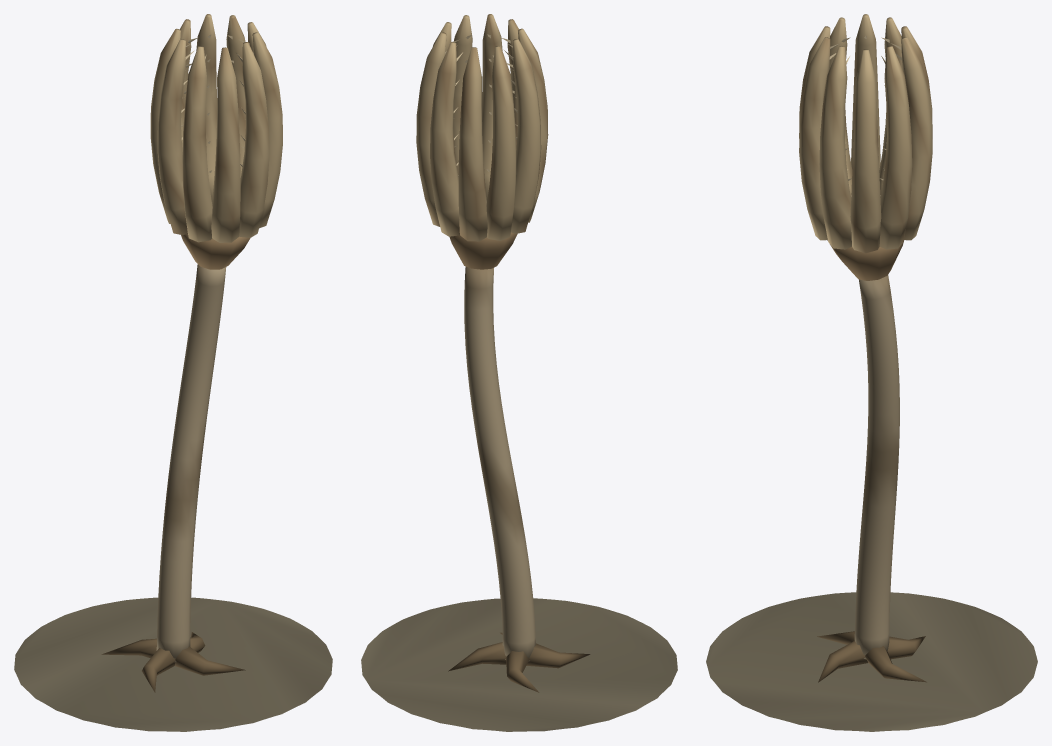
File: Encrinus.fbx
3 renders of one model, left to right at view 1: azimuth 30°, elevation 25°; view 2: azimuth 150°, elevation 25°; view 3: azimuth 270°, elevation 25°, orthographic. The views are drawn at different scales.
Parts seen in each view (by area): view 1: Encrinus; view 2: Encrinus; view 3: Encrinus.
Part boxes in pixels (x1,y1,x2,y2): Encrinus: (14,14,332,731); Encrinus: (361,14,677,731); Encrinus: (706,14,1037,731).
Size of the model in its own units: 0.64 by 1.38 by 0.64.
